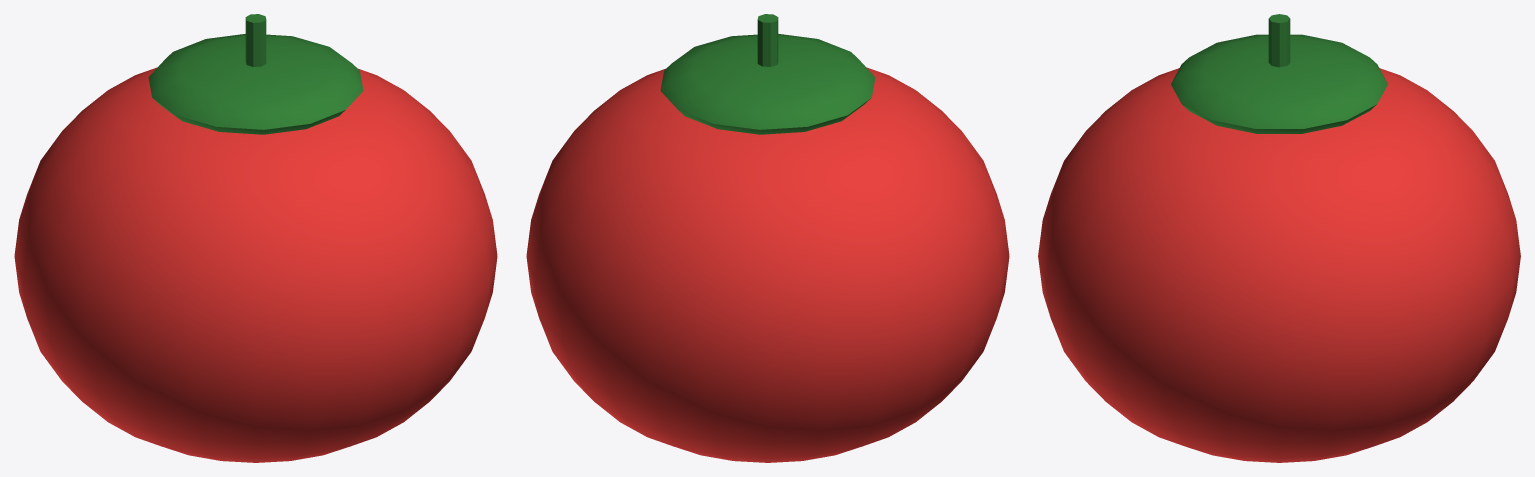
File: Tomato.fbx
3 renders of one model, left to right at view 1: azimuth 30°, elevation 25°; view 2: azimuth 150°, elevation 25°; view 3: azimuth 270°, elevation 25°, orthographic.
Visible parts, largest first — view 1: Tomato; view 2: Tomato; view 3: Tomato.
Part boxes in pixels (bbox=[...]): Tomato: bbox=[14, 14, 497, 462]; Tomato: bbox=[526, 14, 1009, 462]; Tomato: bbox=[1038, 14, 1520, 462].
Bounding box in the file's own units: 0.08 × 0.074 × 0.08.
